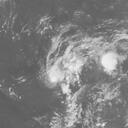cyclone: (45, 41, 122, 84)
